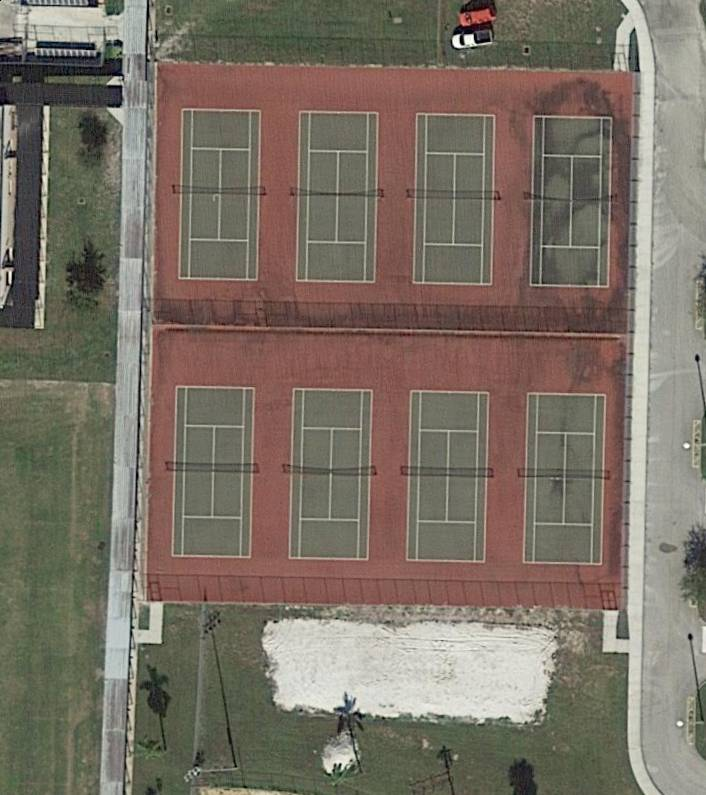small vehicle: (450, 28, 494, 51), (457, 6, 498, 29)
tennis court: (411, 113, 497, 285), (289, 387, 374, 561), (178, 109, 263, 281), (296, 111, 380, 285), (522, 393, 606, 566), (406, 390, 489, 564), (172, 385, 255, 558), (530, 116, 612, 288)
